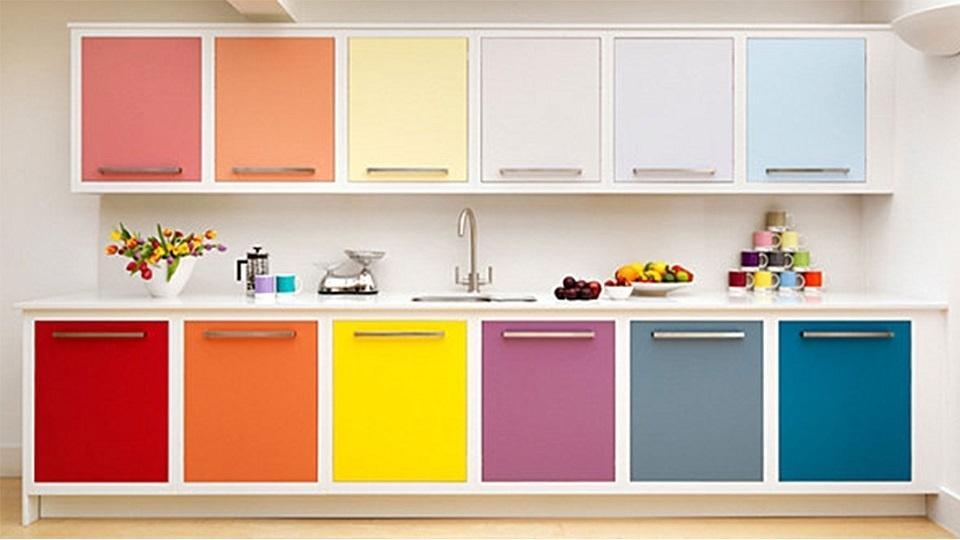cabinet_door: (786, 322, 925, 481), (626, 325, 760, 485), (182, 326, 316, 485), (38, 326, 172, 483), (481, 327, 612, 485), (75, 36, 204, 187), (480, 40, 609, 186), (350, 36, 474, 183), (211, 36, 334, 184), (742, 40, 866, 184), (611, 40, 735, 183)
handle: (760, 162, 856, 182), (625, 162, 721, 182), (488, 163, 587, 182), (499, 325, 600, 343), (224, 163, 319, 182), (359, 163, 456, 181), (798, 327, 898, 344), (94, 163, 188, 181), (650, 328, 747, 345), (346, 328, 447, 344), (42, 327, 148, 342), (202, 327, 300, 342)
